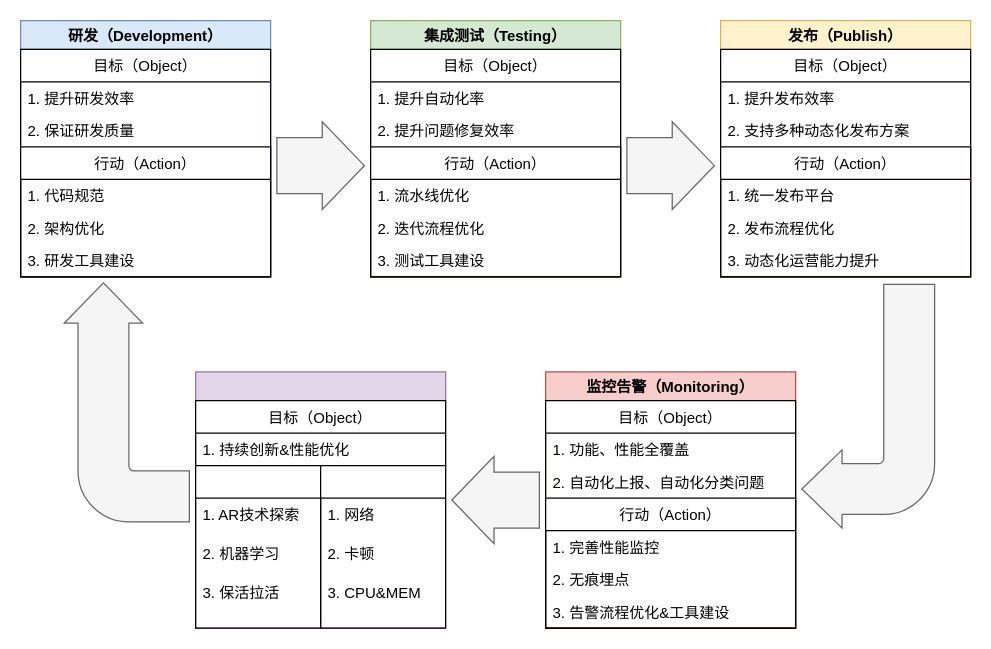
The diagram is 991 pixels wide and 649 high, and some of its shapes have lost their labels. Here are the shapes that lost their labels. From the top down, the box of each, then its label:
(194, 371, 446, 628): 进化（Evolving）
(194, 464, 321, 628): 创新（Innovation）
(319, 464, 446, 628): 优化（Improvement）
